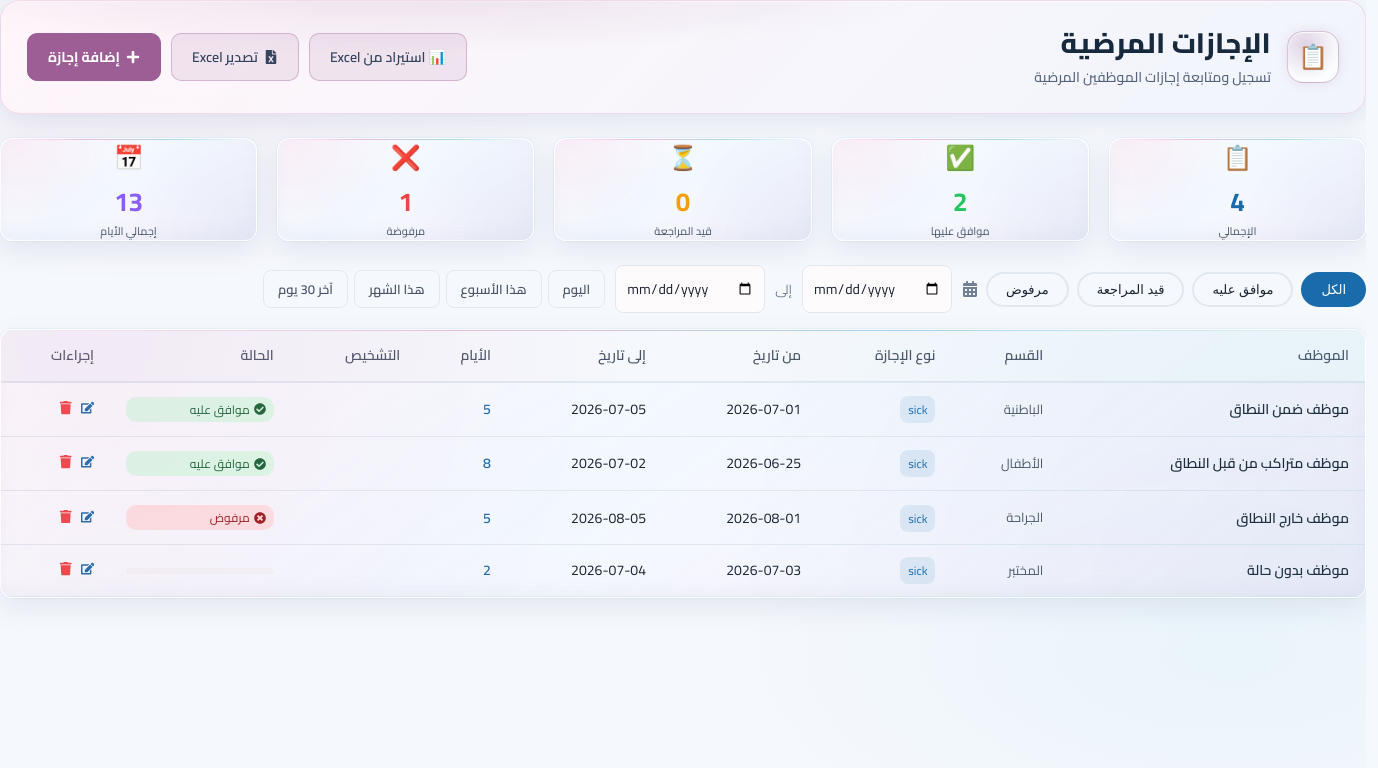
MedicalLeavePage — interval-overlap date filter › a date range matches leaves active at any point in the window, including one that started earlier and is still ongoing
Expected: the text "موظف بدون حالة" is shown, [1059,545,1365,596]
Type "2026-07-01" into the date field named "من تاريخ" at (877, 289), box [802,265,952,313]
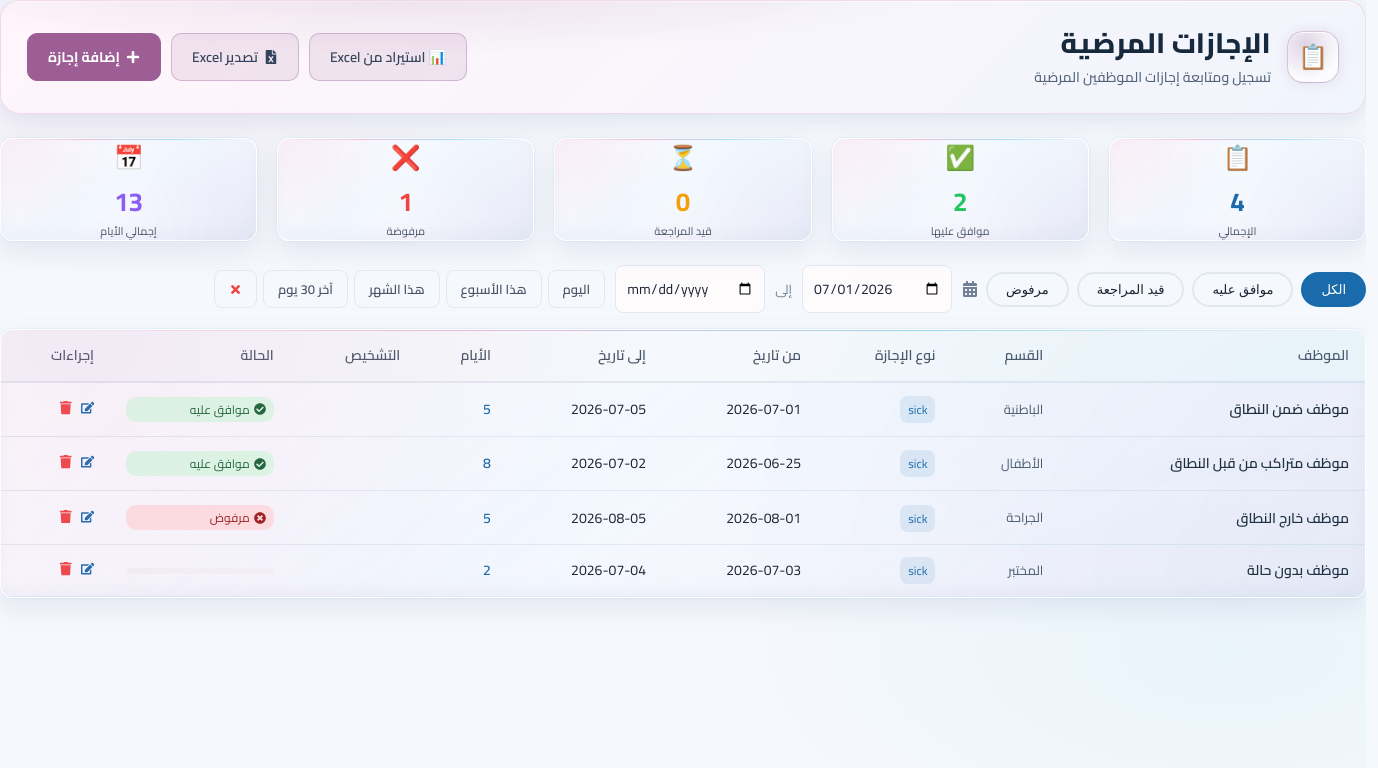
Type "2026-07-15" into the date field named "إلى تاريخ" at (690, 289), box [615,265,765,313]
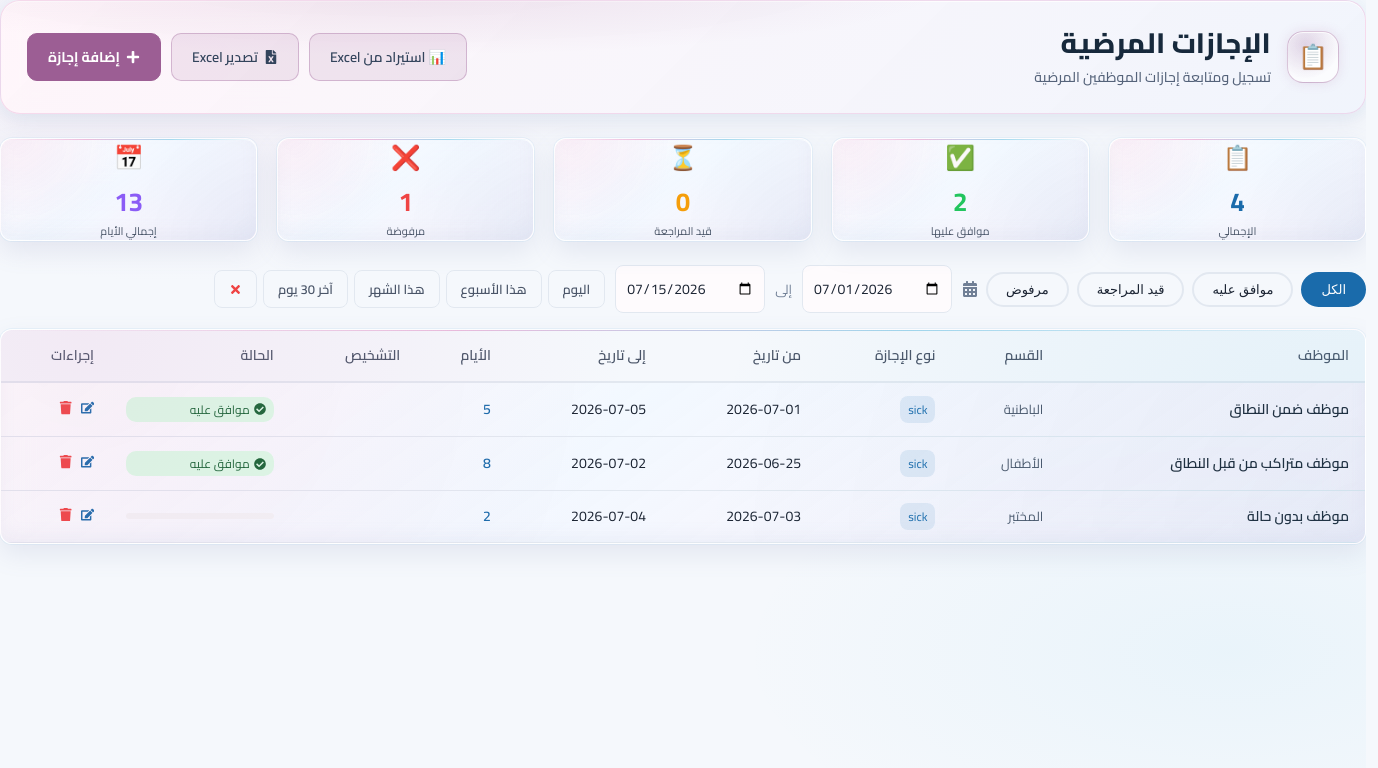
Expected: the text "موظف ضمن النطاق" is shown, [1059,382,1365,436]
Now the text "موظف خارج النطاق" is gone
